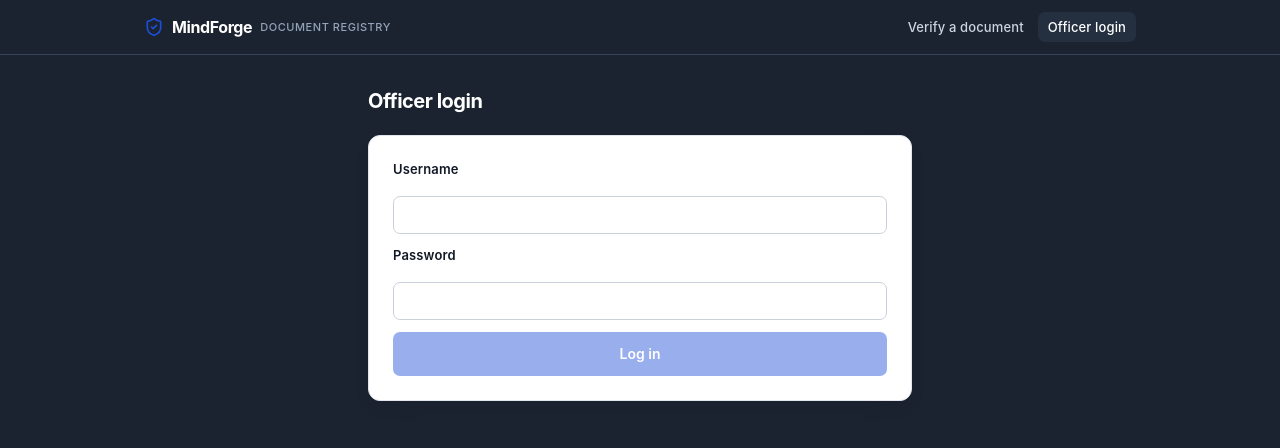
it: routing and access › shows a wrong password plainly and clears nothing the server did not
The image size is (1280, 448).
Type "officer" into the field labelled "Username".
click(640, 215); type("officer")  # box [393,196,887,234]
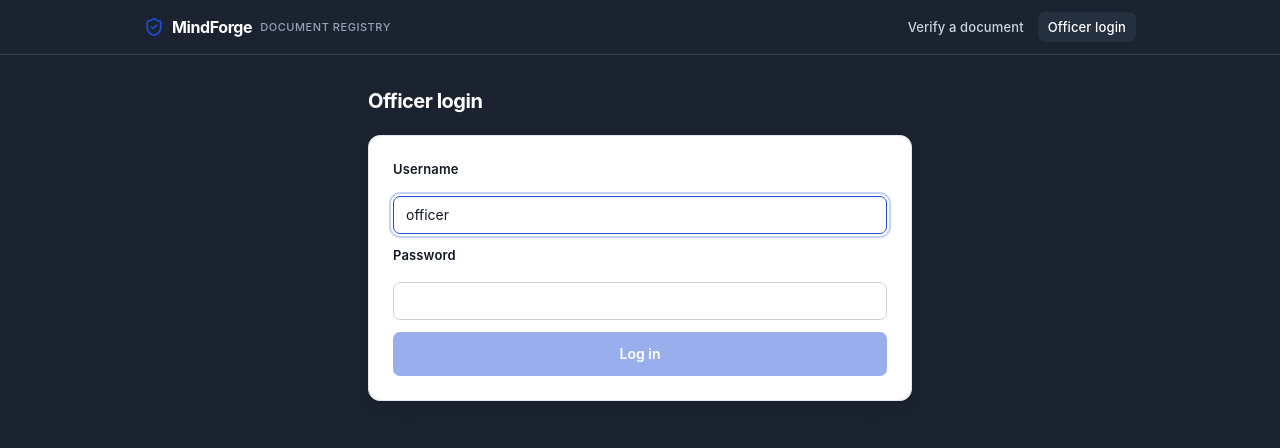
Type "correct horse" into the password field labelled "Password".
click(640, 301); type("correct horse")  # box [393,282,887,320]
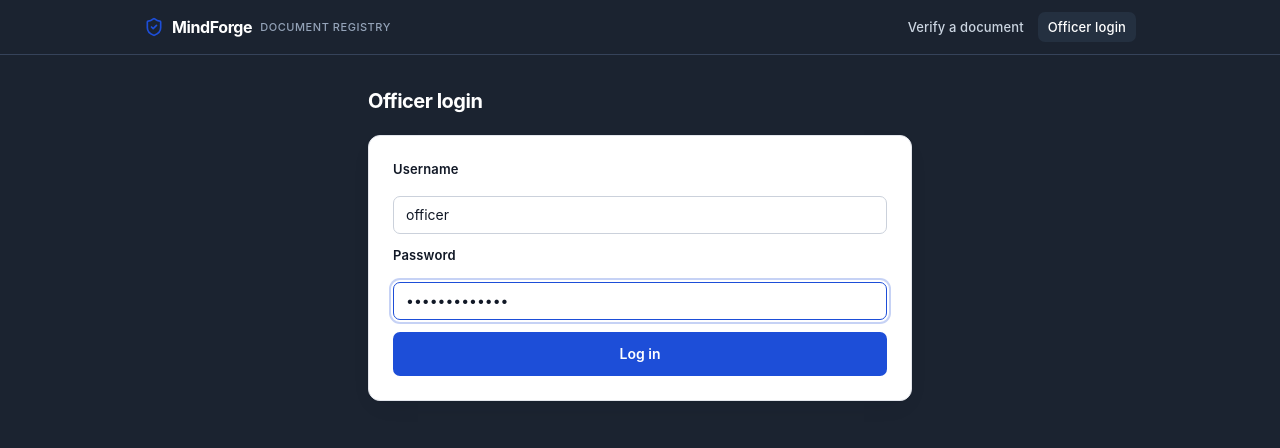
Click the button "Log in".
click(640, 354)  # box [393,332,887,376]
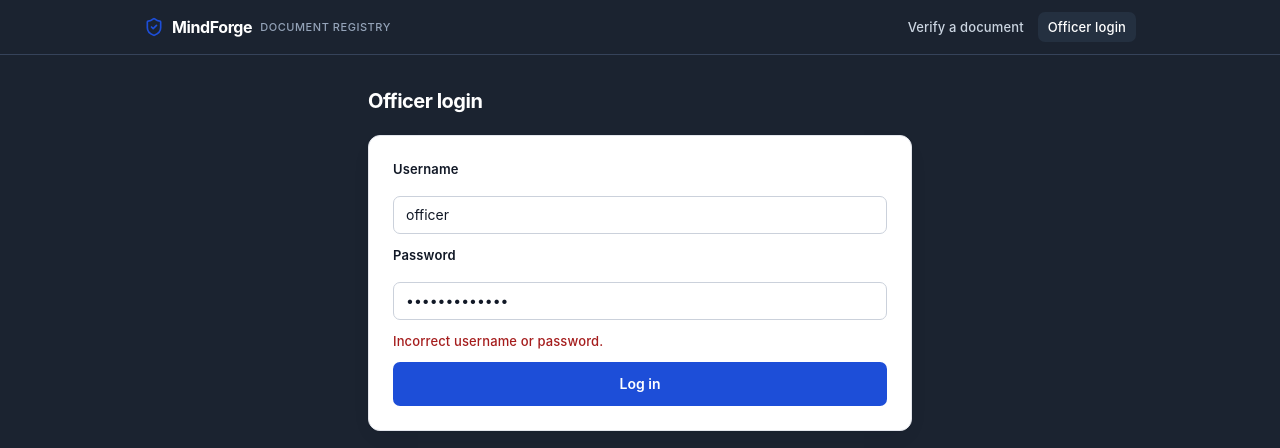
Expected: the heading "Officer login" is shown, [368,89,482,113]
Expected: the message reads "Incorrect username or password.", [393,333,603,349]
